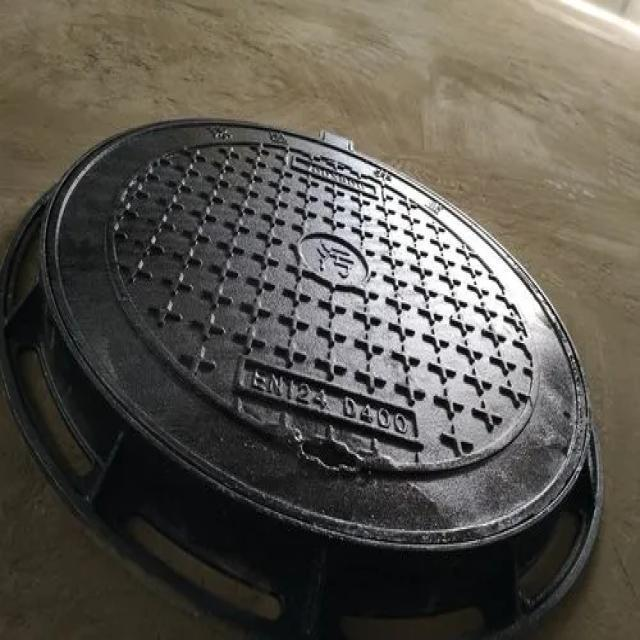manhole: (0, 120, 601, 640)
